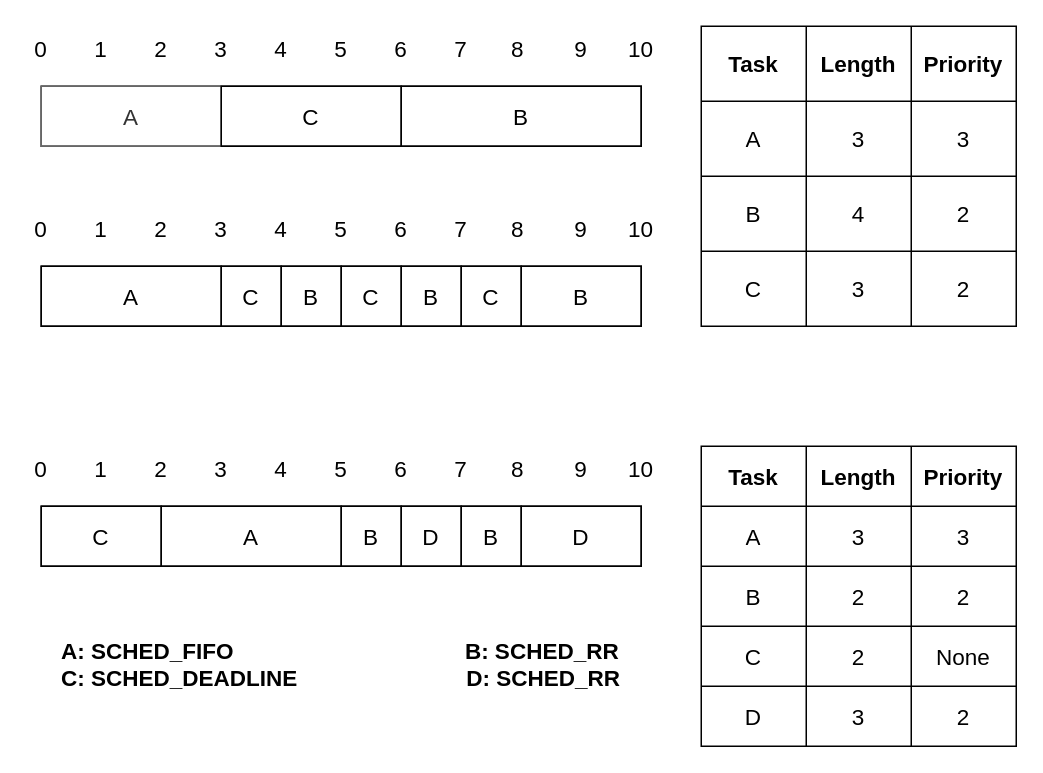
The diagram is 1043 pixels wide and 773 high, and some of its shapes have lost their labels. The box of each missing label's shape, as (x1, y1, x2, y2) in pixels:
MIXED SCHEDULERS: (40, 505, 641, 566)
SCHED_FIFO: (40, 85, 641, 146)
SCHED_RR: (40, 265, 641, 326)
